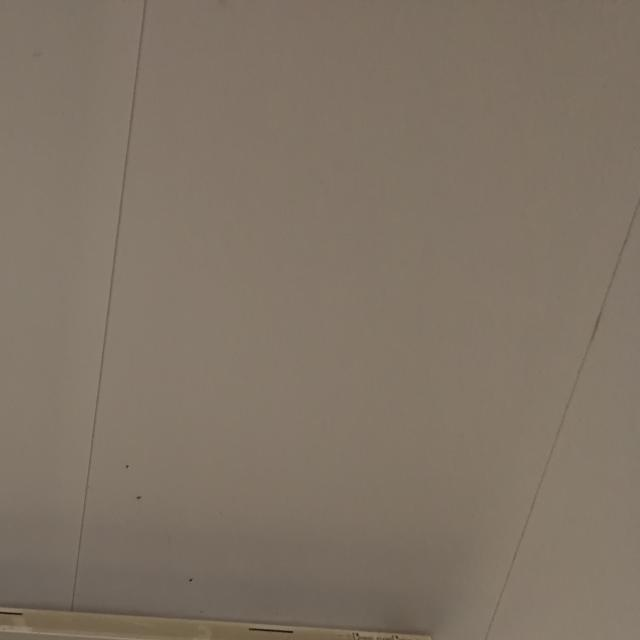fluorescent tube: (0, 552, 458, 640)
